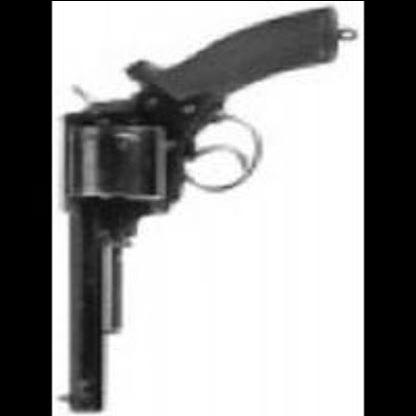weapon: (59, 8, 358, 415)
